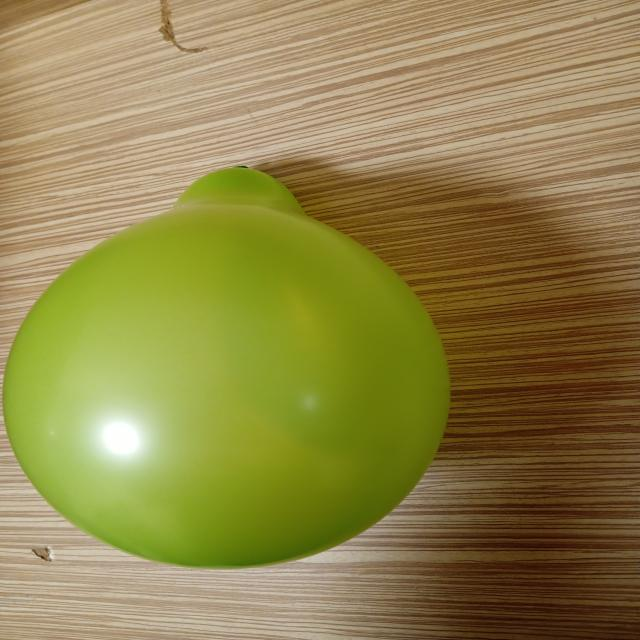balloon: (3, 167, 450, 568)
